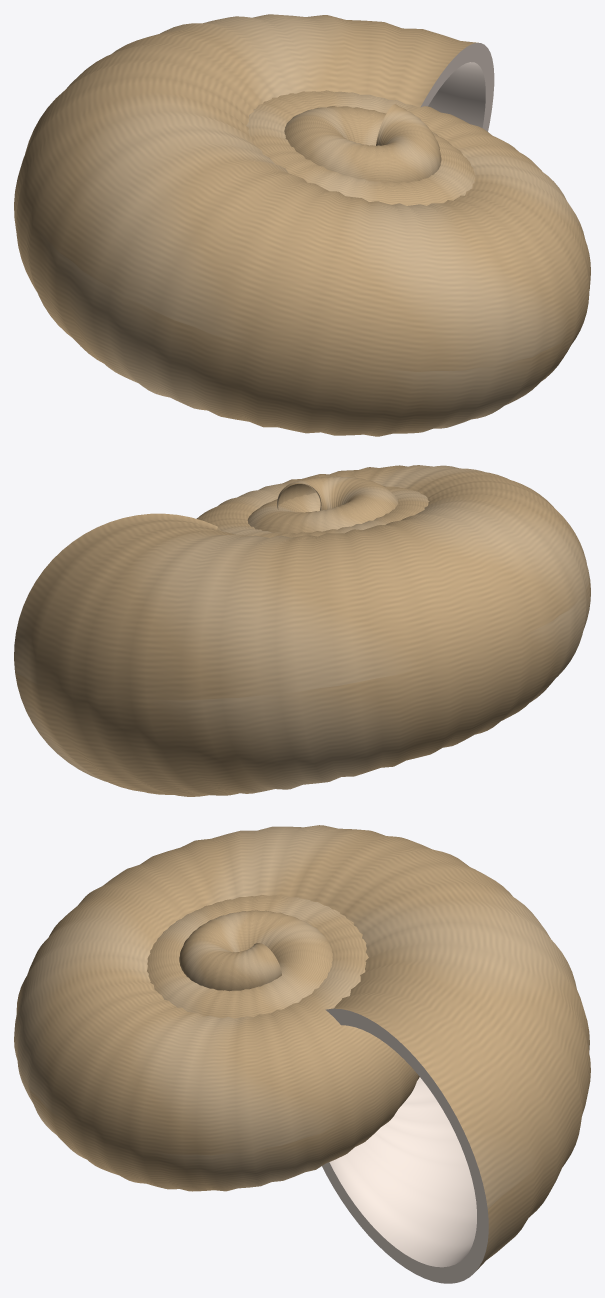
File: periwinkle.glb
3 renders of one model, top to bottom at view 1: azimuth 30°, elevation 25°; view 2: azimuth 150°, elevation 25°; view 3: azimuth 270°, elevation 25°, orthographic. The views are drawn at different scales.
Parts seen in each view (by area): view 1: periwinkle.001; view 2: periwinkle.001; view 3: periwinkle.001.
Part boxes in pixels (bbox=[...]): periwinkle.001: bbox=[14, 14, 590, 436]; periwinkle.001: bbox=[14, 465, 590, 796]; periwinkle.001: bbox=[14, 825, 590, 1283].
Size of the model in its own units: 1.61 by 0.9941 by 1.65.
Materials: 3 (1 with a texture image).
